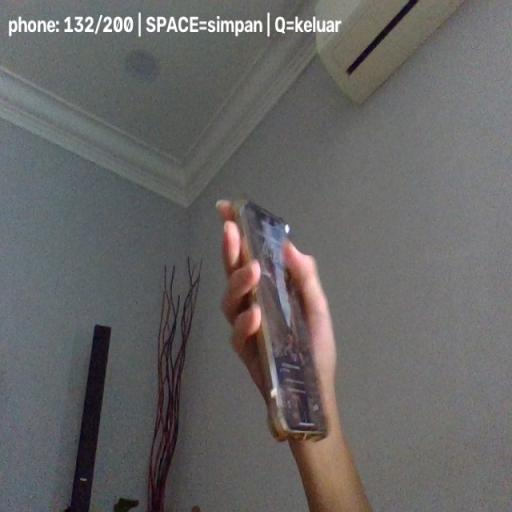Phone: (230, 198, 328, 442)
